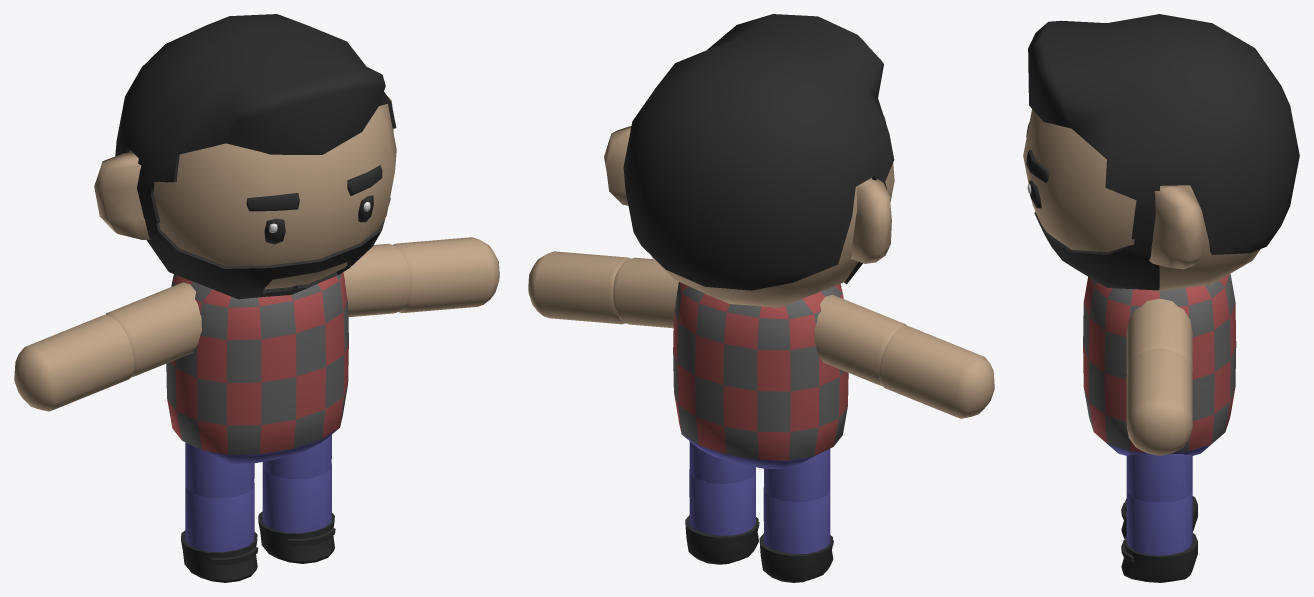
Rendered from woodcutter_Model.fbx.
3 views of the same model, side by side, from view 1: azimuth 30°, elevation 25°; view 2: azimuth 150°, elevation 25°; view 3: azimuth 270°, elevation 25° (orthographic). The views are drawn at different scales.
Visible parts, largest first — view 1: hair_02, head, torso, arm_R2, arm_L2, beard_02, arm_R1, arm_L1, leg_R2, leg_L2, leg_R1, leg_R3 (+4 smaller); view 2: hair_02, torso, head, arm_R2, arm_L2, arm_R1, arm_L1, leg_R2, leg_L2, leg_R1, leg_L3, leg_R3 (+1 smaller); view 3: hair_02, head, torso, arm_L2, beard_02, leg_L2, arm_L1, leg_L1, leg_L3, eyebrows1.
Boxes of the visible parts, box(x1,y1,x2,y2) form: hair_02: box(115, 14, 396, 223); head: box(94, 96, 396, 289); torso: box(166, 272, 348, 463); arm_R2: box(14, 314, 134, 411); arm_L2: box(393, 237, 499, 313); beard_02: box(145, 197, 390, 299); arm_R1: box(105, 282, 201, 377); arm_L1: box(343, 243, 411, 317); leg_R2: box(185, 483, 254, 552); leg_L2: box(262, 464, 331, 533); leg_R1: box(185, 442, 254, 498); leg_R3: box(181, 530, 258, 582); hair_02: box(623, 14, 894, 290); torso: box(673, 282, 848, 468); head: box(604, 115, 894, 307); arm_R2: box(879, 326, 994, 418); arm_L2: box(528, 251, 630, 324); arm_R1: box(814, 294, 906, 386); arm_L1: box(613, 257, 678, 328); leg_R2: box(763, 487, 830, 553); leg_L2: box(689, 469, 755, 535); leg_R1: box(764, 449, 830, 502); leg_L3: box(685, 515, 759, 564); leg_R3: box(759, 533, 833, 582); hair_02: box(1028, 14, 1299, 254); head: box(1023, 109, 1260, 291); torso: box(1083, 273, 1236, 456); arm_L2: box(1126, 348, 1192, 455); beard_02: box(1034, 211, 1159, 290); leg_L2: box(1126, 488, 1192, 555); arm_L1: box(1126, 298, 1192, 374); leg_L1: box(1126, 454, 1192, 502); leg_L3: box(1121, 533, 1197, 582); eyebrows1: box(1026, 150, 1049, 183).
Bounding box in the file's own units: 2.75 × 2.94 × 1.4.
